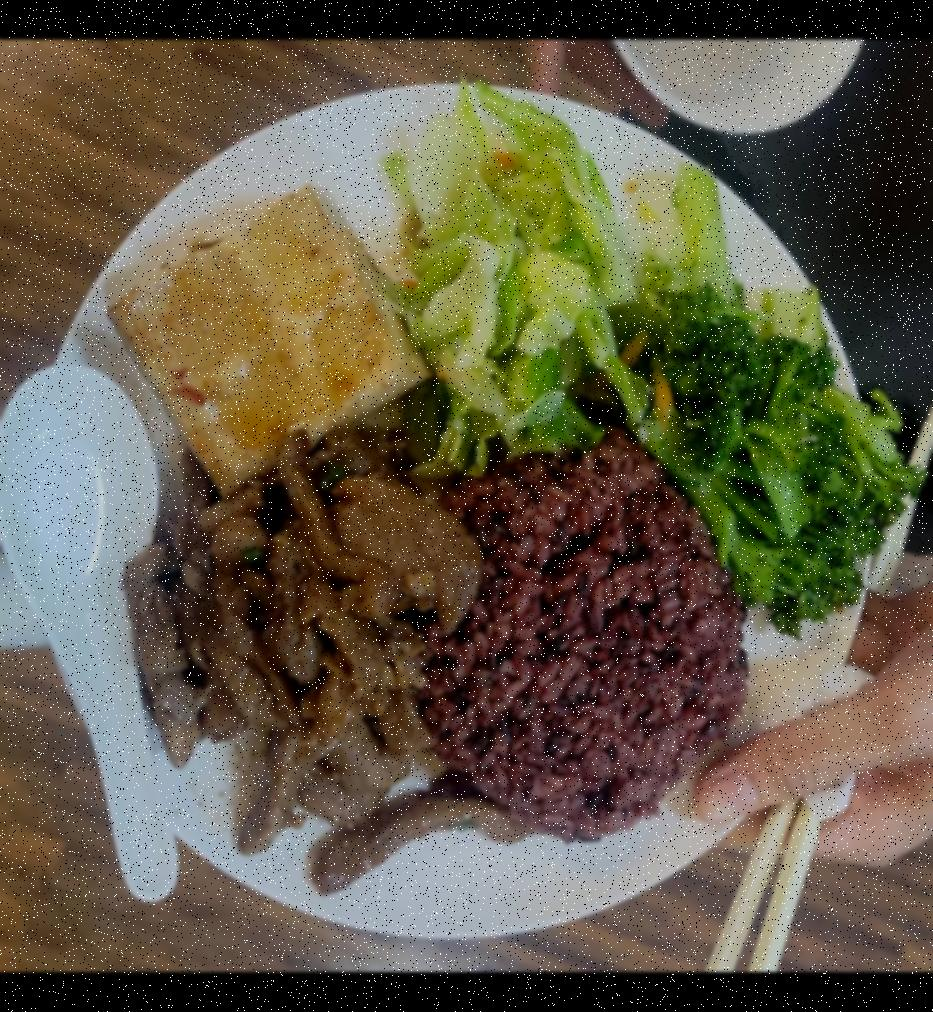plate: (26, 72, 894, 962)
purple rice: (404, 424, 740, 852)
shacha pork: (125, 442, 477, 892)
side dish: (605, 192, 900, 652), (95, 174, 432, 494), (392, 90, 620, 452)
